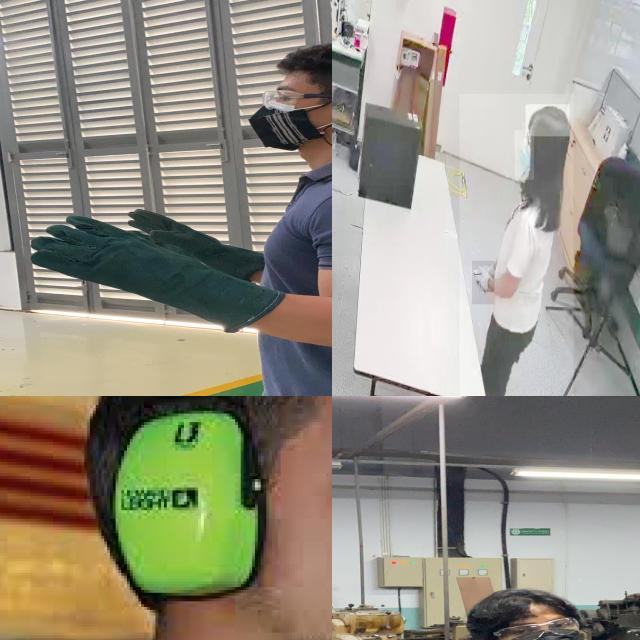Ear-protection: (107, 400, 266, 598)
face_mask: (244, 85, 332, 152), (495, 613, 582, 640), (514, 130, 534, 180)
glasses: (484, 614, 586, 640), (256, 86, 332, 113)
hand_glove: (20, 215, 178, 302), (118, 204, 232, 261), (472, 261, 494, 304)
head_nohelmet: (463, 584, 571, 626), (266, 37, 332, 80), (526, 104, 570, 138)
person: (163, 30, 332, 396), (459, 93, 574, 396), (332, 586, 640, 640)
